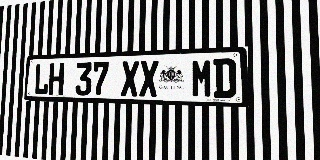3: (75, 62, 92, 96)
7: (92, 62, 109, 96)
D: (213, 58, 236, 98)
H: (48, 63, 64, 95)
L: (34, 63, 49, 95)
M: (191, 59, 213, 98)
X: (139, 60, 159, 97), (121, 61, 139, 96)
